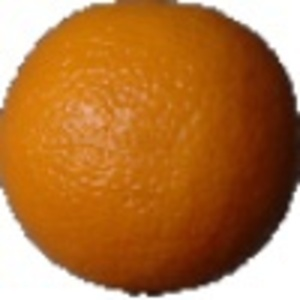laranja: (4, 2, 298, 292)
